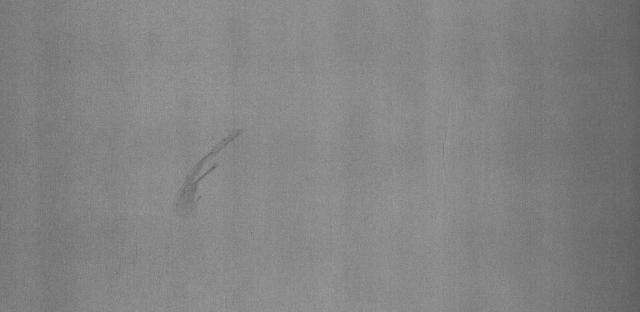water_spot: (168, 121, 256, 229)
